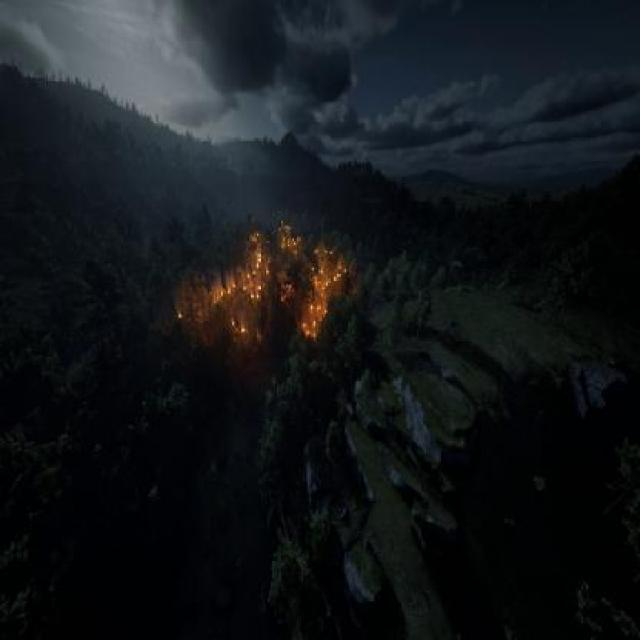Fire: (168, 205, 368, 356)
